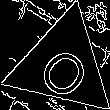O_NE: (29, 31, 95, 98)
